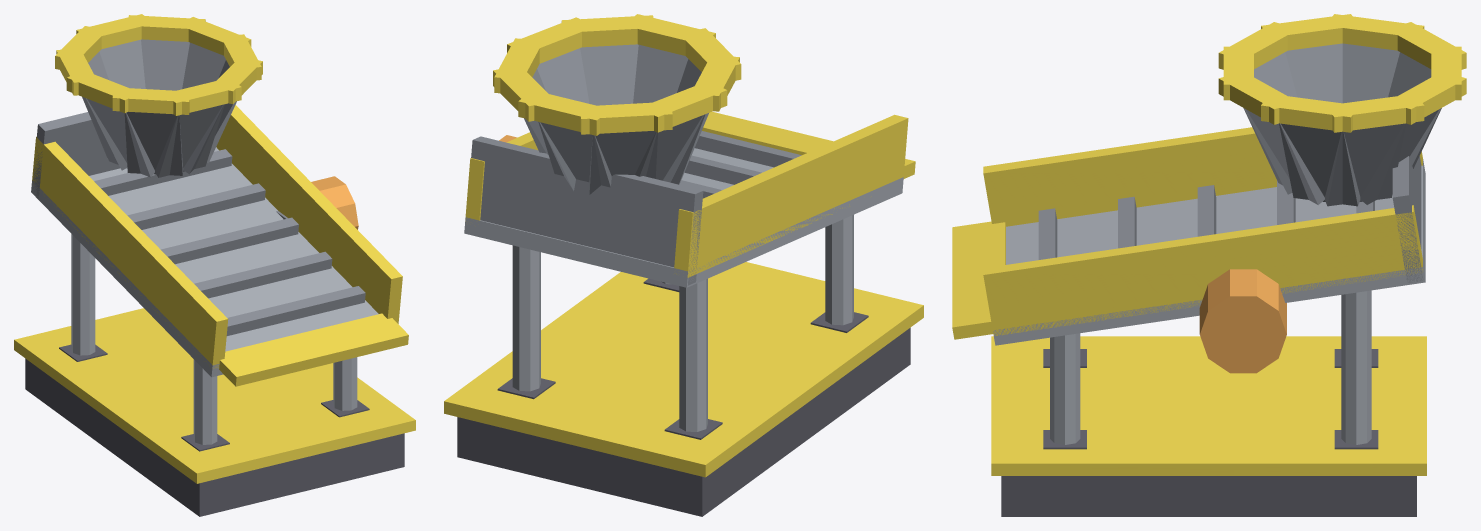
Rendered from feeder_vibe.glb.
The picture shows the model from 3 angles, left to right: view 1: azimuth 30°, elevation 25°; view 2: azimuth 150°, elevation 25°; view 3: azimuth 270°, elevation 25°; orthographic projection. The views are drawn at different scales.
Visible parts, largest first — view 1: feeder_vibe; view 2: feeder_vibe; view 3: feeder_vibe.
Part boxes in pixels (x1,y1,x2,y2): feeder_vibe: (14,14,415,516); feeder_vibe: (444,14,923,516); feeder_vibe: (952,14,1466,516).
Size of the model in its own units: 1 by 1.26 by 1.5.
